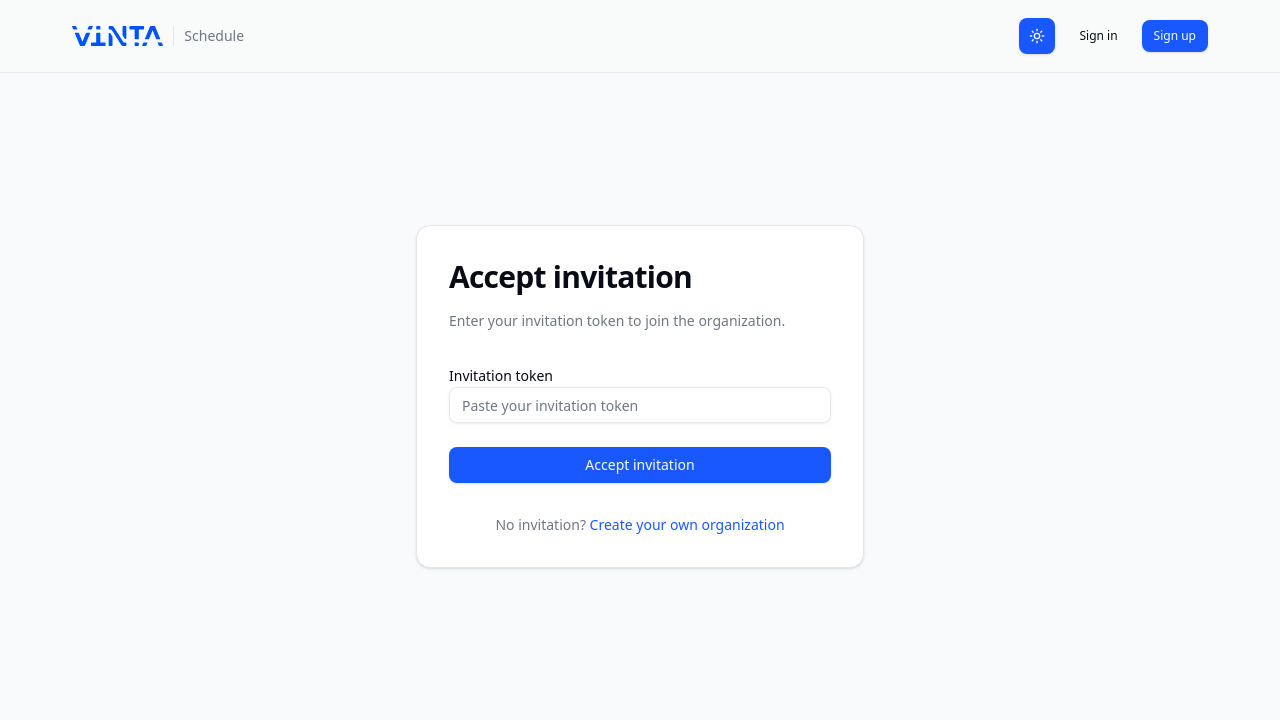
Test: AcceptInvitePage › already-member error (same-org duplicate) › shows the already-member alert and does NOT redirect
In the field labelled "Invitation token": (640, 405) [449,387,831,423], type "dup-token"
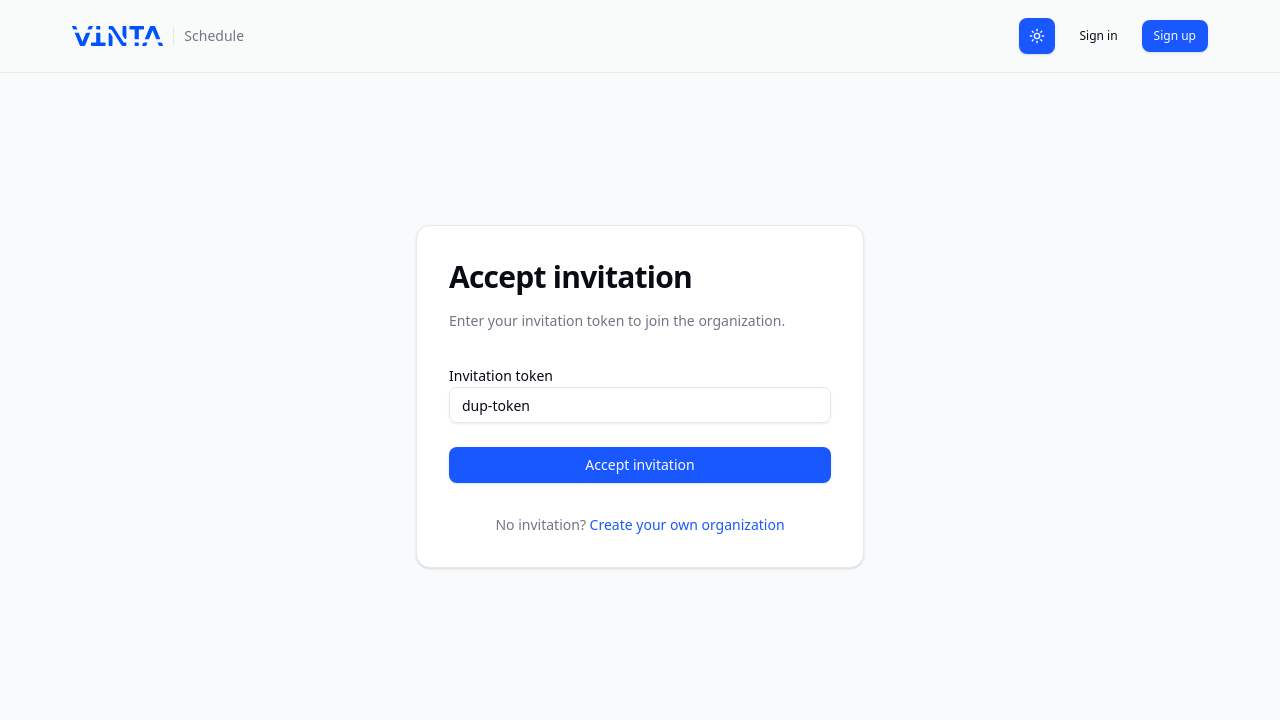
Click the button "Accept invitation": (640, 465) [449,447,831,483]
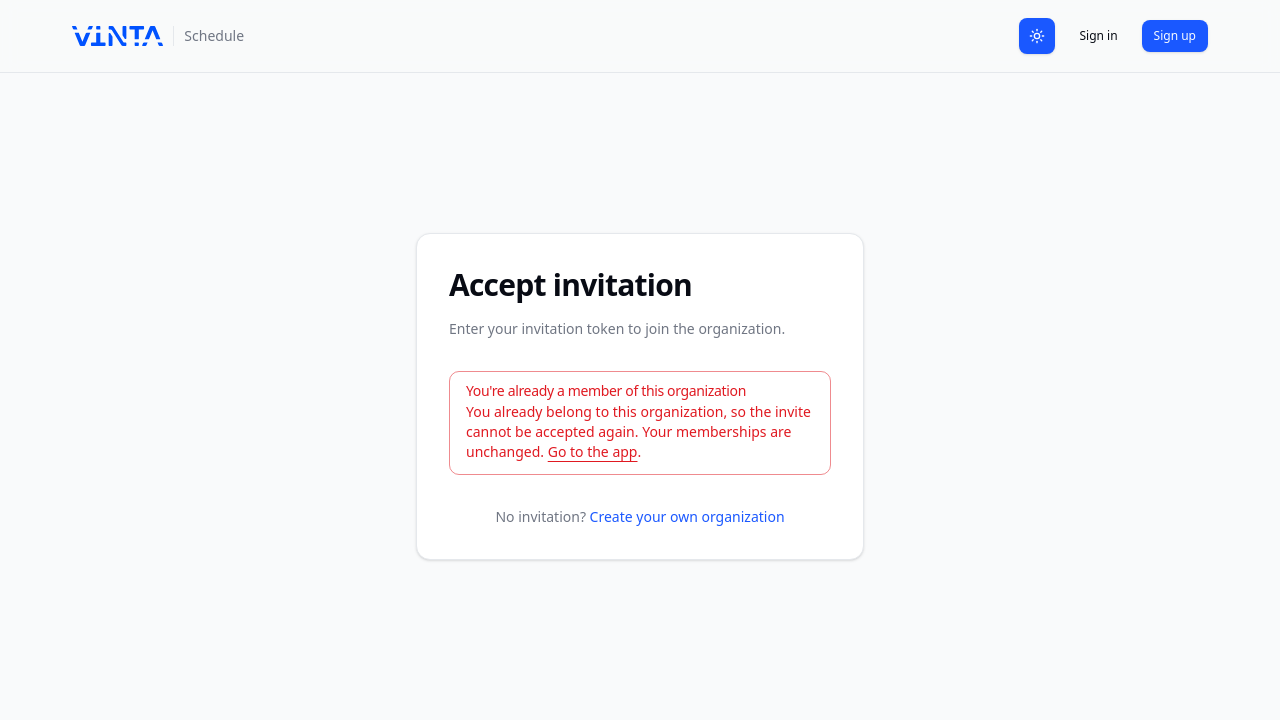
Result: the heading "You're already a member of this organization" is shown at [466,381,746,400]
